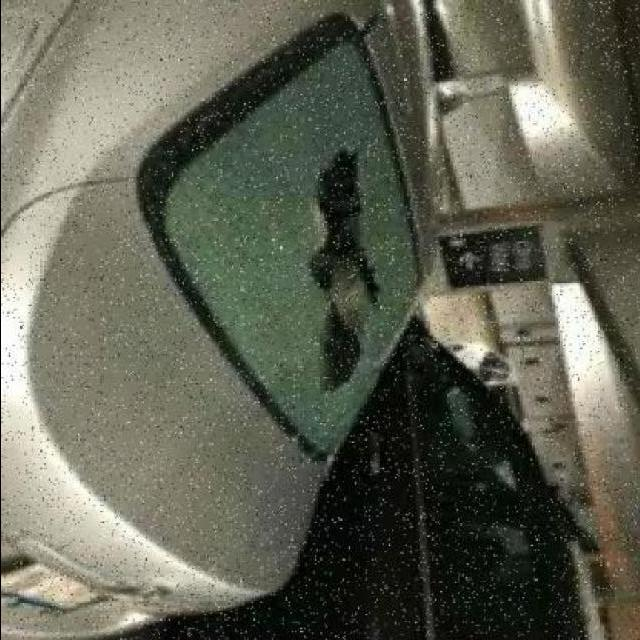Rear-windscreen-Damage: (144, 40, 418, 439)
